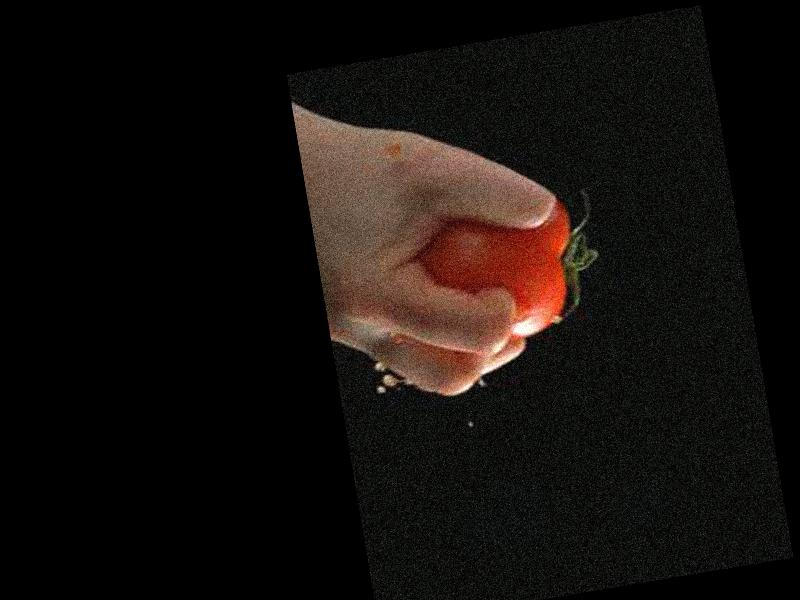Tomato: (415, 198, 586, 351)
